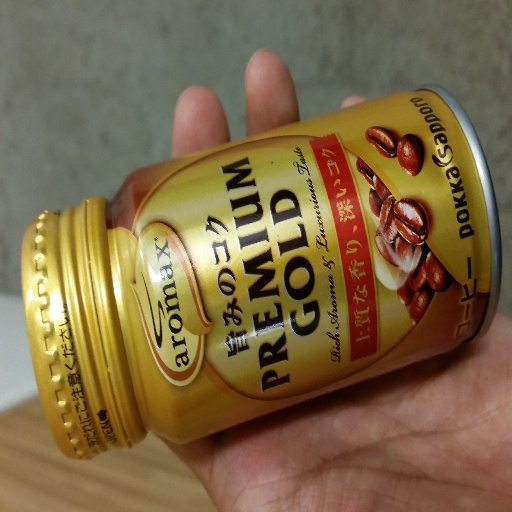hand: (153, 45, 511, 511)
